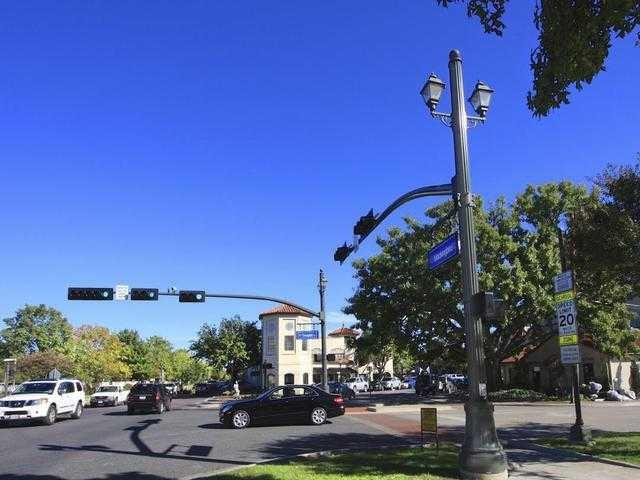green: (67, 287, 114, 303), (178, 285, 209, 307), (130, 287, 161, 303)
